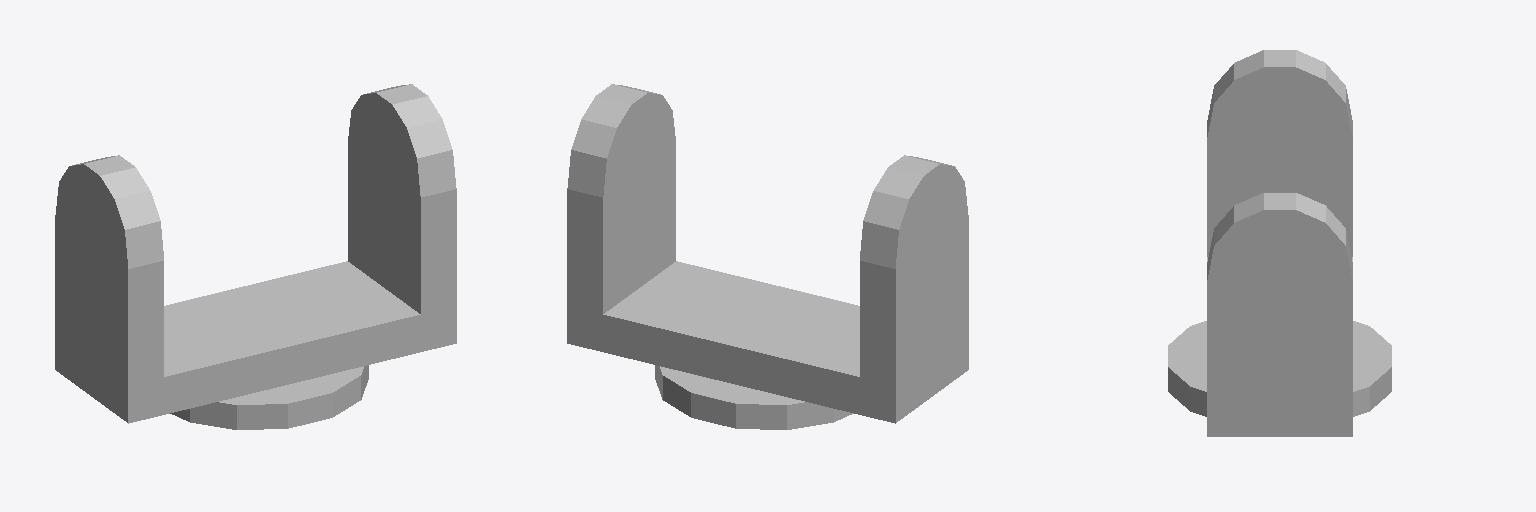
Rendered from gun_base.obj.
3 renders of one model, left to right at view 1: azimuth 30°, elevation 25°; view 2: azimuth 150°, elevation 25°; view 3: azimuth 270°, elevation 25°, orthographic.
Parts seen in each view (by area): view 1: Ozelot:Turret1; view 2: Ozelot:Turret1; view 3: Ozelot:Turret1.
Part boxes in pixels (x1,y1,x2,y2): Ozelot:Turret1: (55, 84, 456, 429); Ozelot:Turret1: (567, 84, 968, 429); Ozelot:Turret1: (1168, 50, 1391, 436).
Bounding box in the file's own units: 59.81 × 43.9 × 35.34.